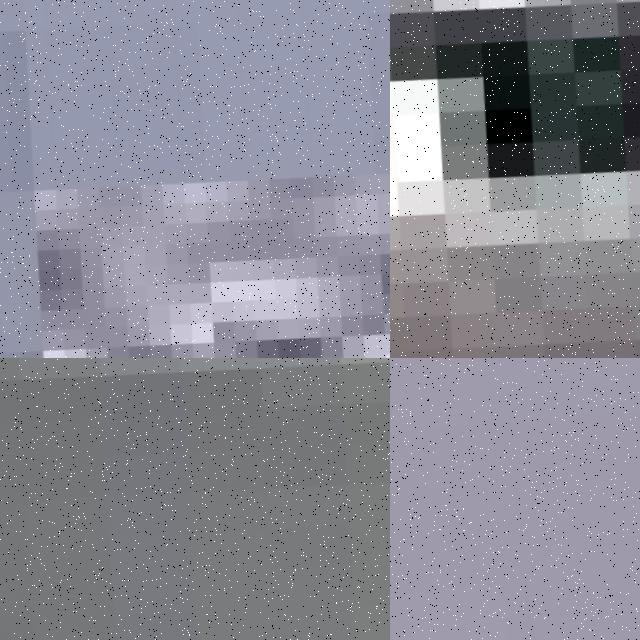drone: (0, 0, 390, 358), (0, 358, 390, 640), (390, 0, 640, 358)
